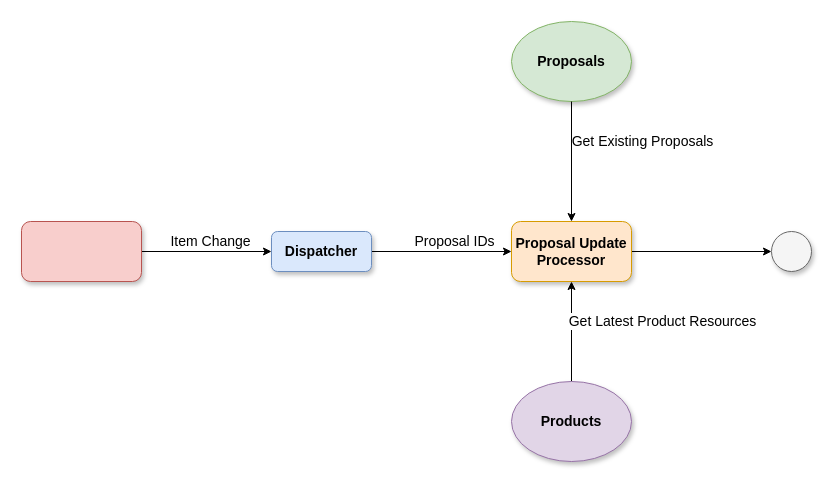
Image size: 835x486. Some labels were removed from this diagram. Each missing label, with the centre of its shape:
"End" belongs at pixel 792 252.
"Item Import" belongs at pixel 82 252.
